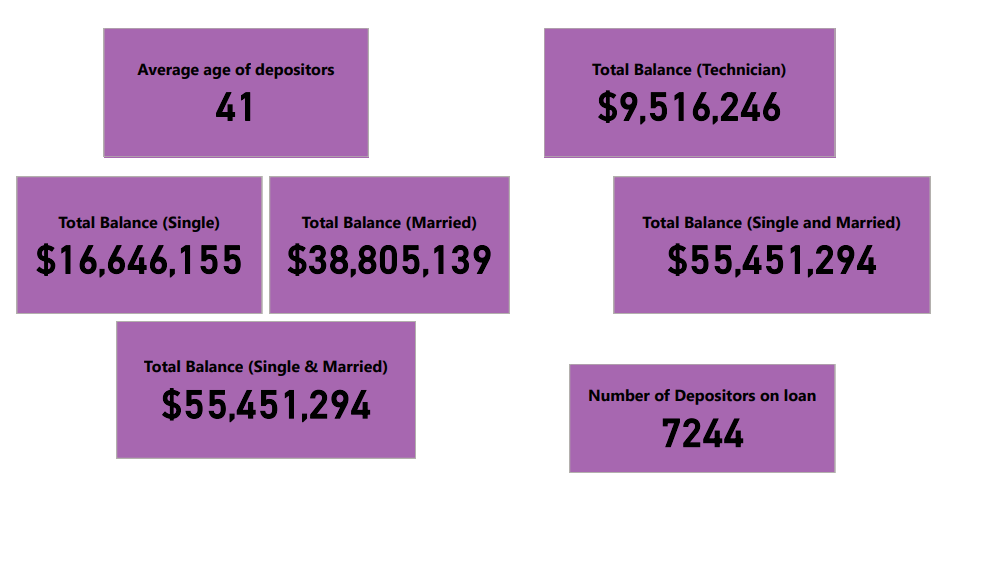

This screenshot's page, from the dashboard's own definition file:
{"tool":"powerbi","page":{"name":"Page 2","canvas":[1280,720],"ordinal":1},"visuals":[{"type":"cardVisual","fields":{"Data":["bank-full.Average age of depositors"]},"box":[116.4,14.9,362.7,182.1],"z":0},{"type":"cardVisual","fields":{"Data":["bank-full.Total Balance (Technician)"]},"box":[703,14.9,398.5,182.1],"z":1000},{"type":"cardVisual","fields":{"Data":["bank-full.Depositors on loan"]},"box":[737.3,462.7,364.2,155.2],"z":2000},{"type":"cardVisual","fields":{"Data":["bank-full.Total Balance (Married and Single)"]},"box":[337.3,213.4,329.9,192.5],"z":3000},{"type":"cardVisual","fields":{"Data":["bank-full.Total Balance (Single & Married)"]},"box":[132.8,406,409,192.5],"z":4000},{"type":"cardVisual","fields":{"Data":["bank-full.Total Balance (Single)"]},"box":[0,213.4,337.3,192.5],"z":5000},{"type":"cardVisual","fields":{"Data":["bank-full.Total Balance (Single and Married)"]},"box":[795.5,213.4,432.8,192.5],"z":6000}]}

Visuals, with their boxes in screenshot pixels (x1, y1, x2, y2), scaled from the page's 1280x720 canvas onto the 989x563 screenshot:
cardVisual - bank-full.Average age of depositors: (90,12,370,154)
cardVisual - bank-full.Total Balance (Technician): (543,12,851,154)
cardVisual - bank-full.Depositors on loan: (570,362,851,483)
cardVisual - bank-full.Total Balance (Married and Single): (261,167,516,317)
cardVisual - bank-full.Total Balance (Single & Married): (103,317,419,468)
cardVisual - bank-full.Total Balance (Single): (0,167,261,317)
cardVisual - bank-full.Total Balance (Single and Married): (615,167,949,317)
